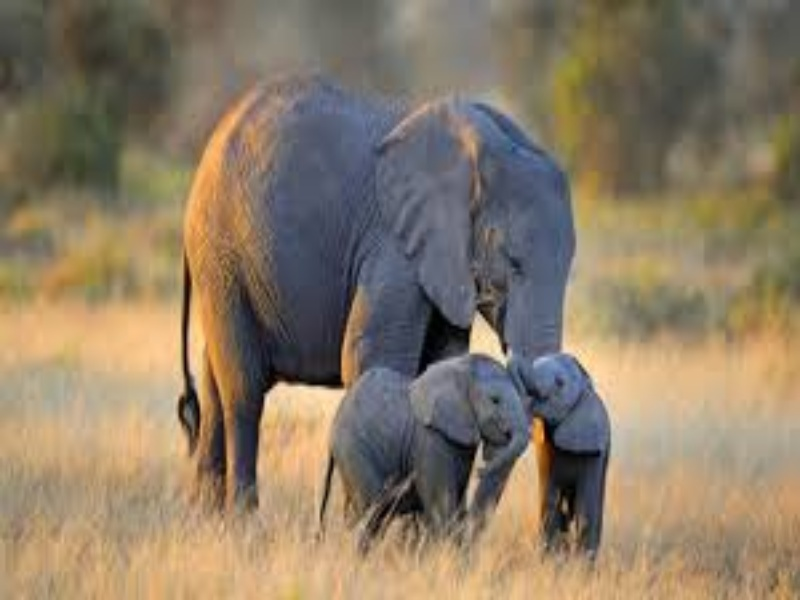elephant: (168, 64, 635, 573)
